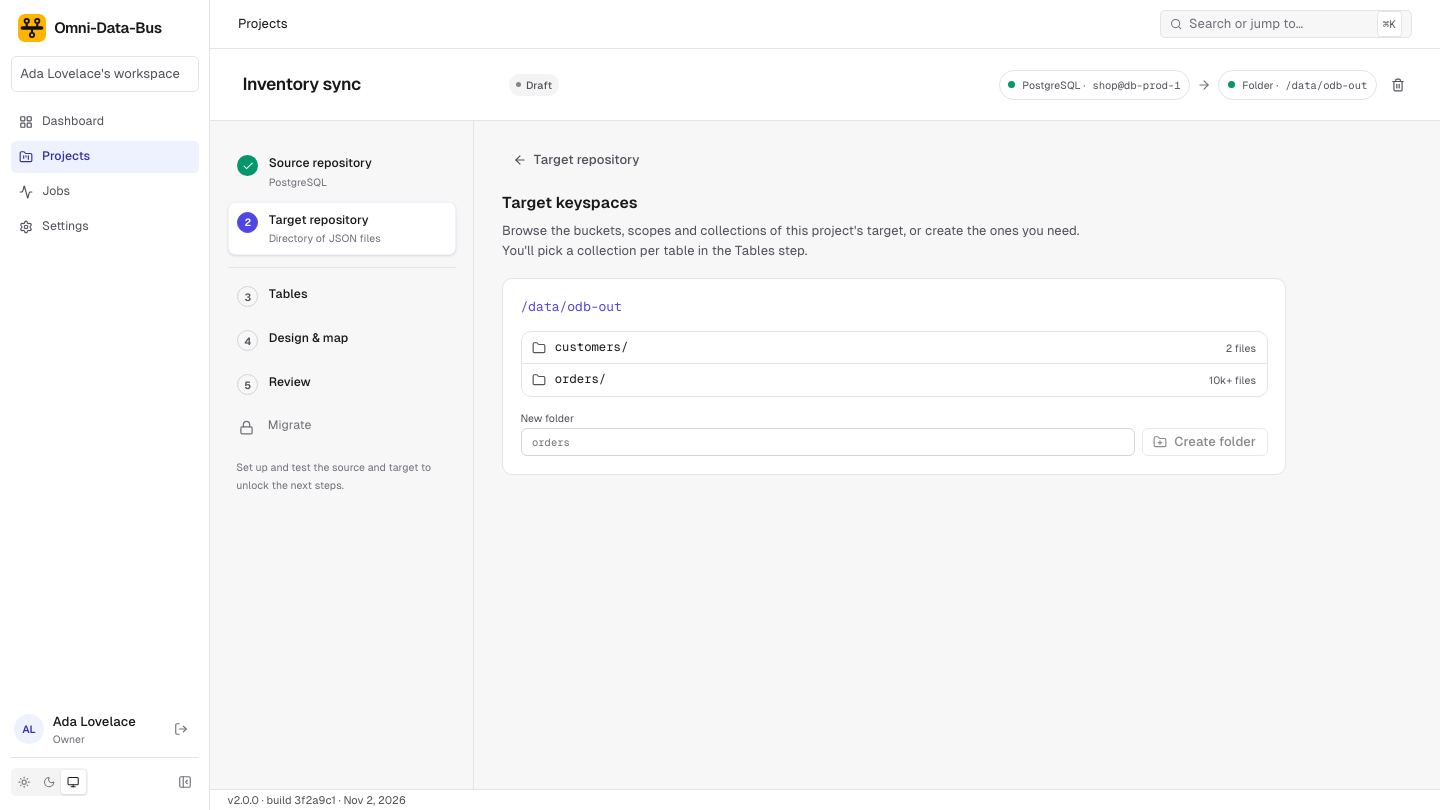
Test case: DirectoryBrowser › AC3: lists and creates folders
The width and height of the screenshot is (1440, 810).
Expected: the text "customers/" is shown, [555, 339, 628, 355]
Expected: the text "2 files" is shown, [1226, 340, 1256, 354]
// Open a folder, then go back to the root through the path.
Step 1. Click the text "orders/" → (581, 379), box [555, 371, 606, 387]
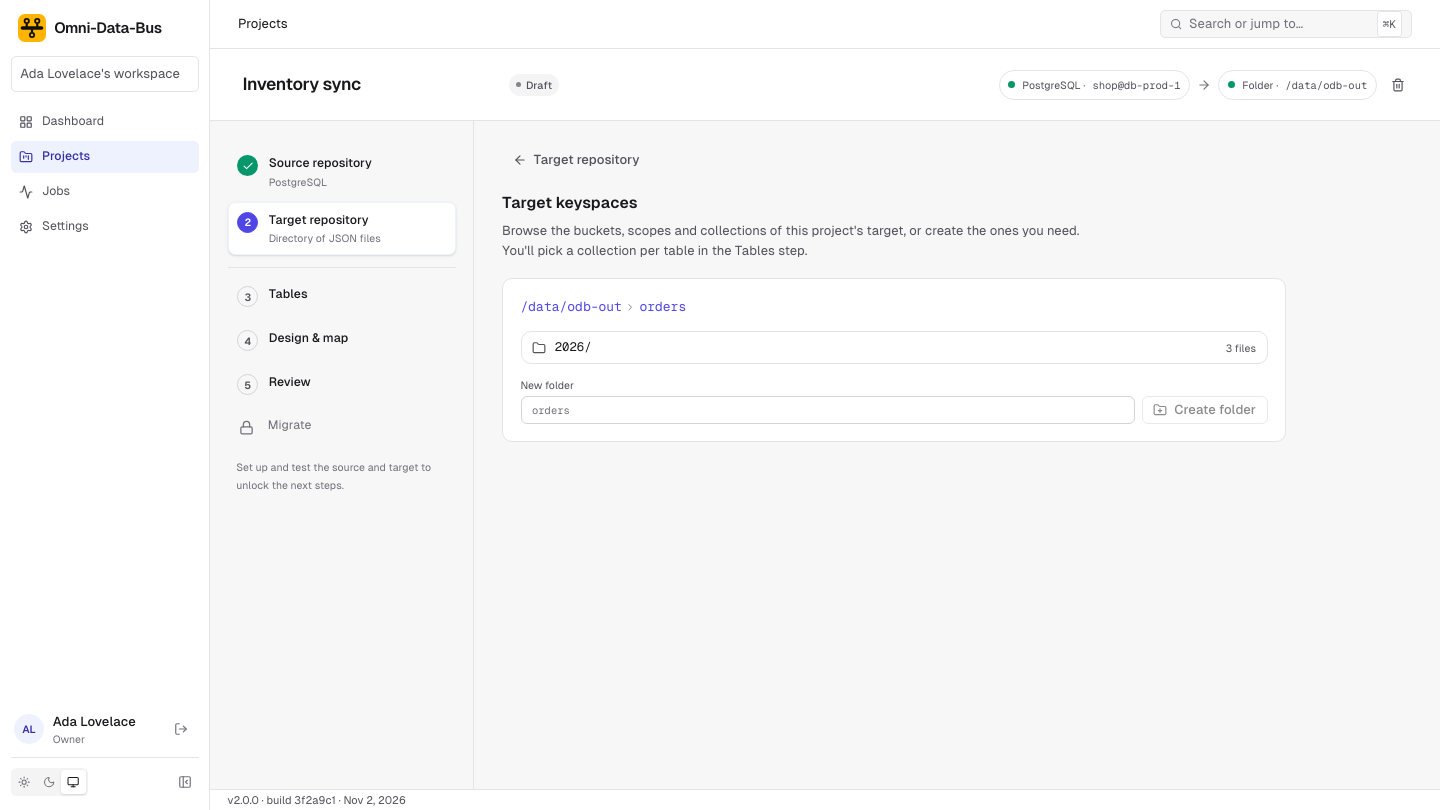
Expected: the text "2026/" is shown, [555, 339, 592, 355]
Step 2. Click the button "/data/odb-out" → (571, 307), box [520, 297, 622, 317]
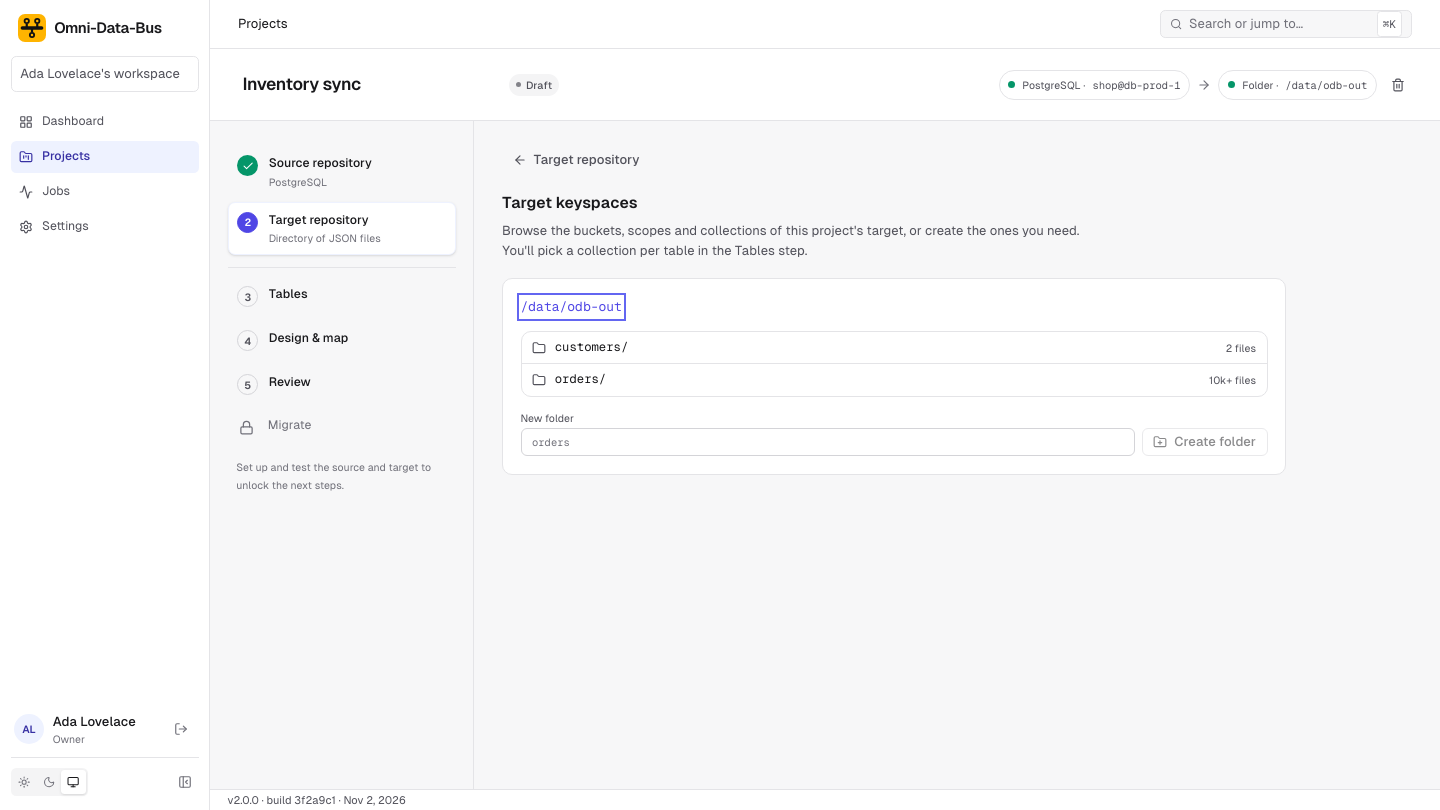
Expected: the text "customers/" is shown, [555, 339, 628, 355]
Step 3. Type "../etc" into the field labelled "New folder" → (828, 442), box [520, 428, 1135, 456]
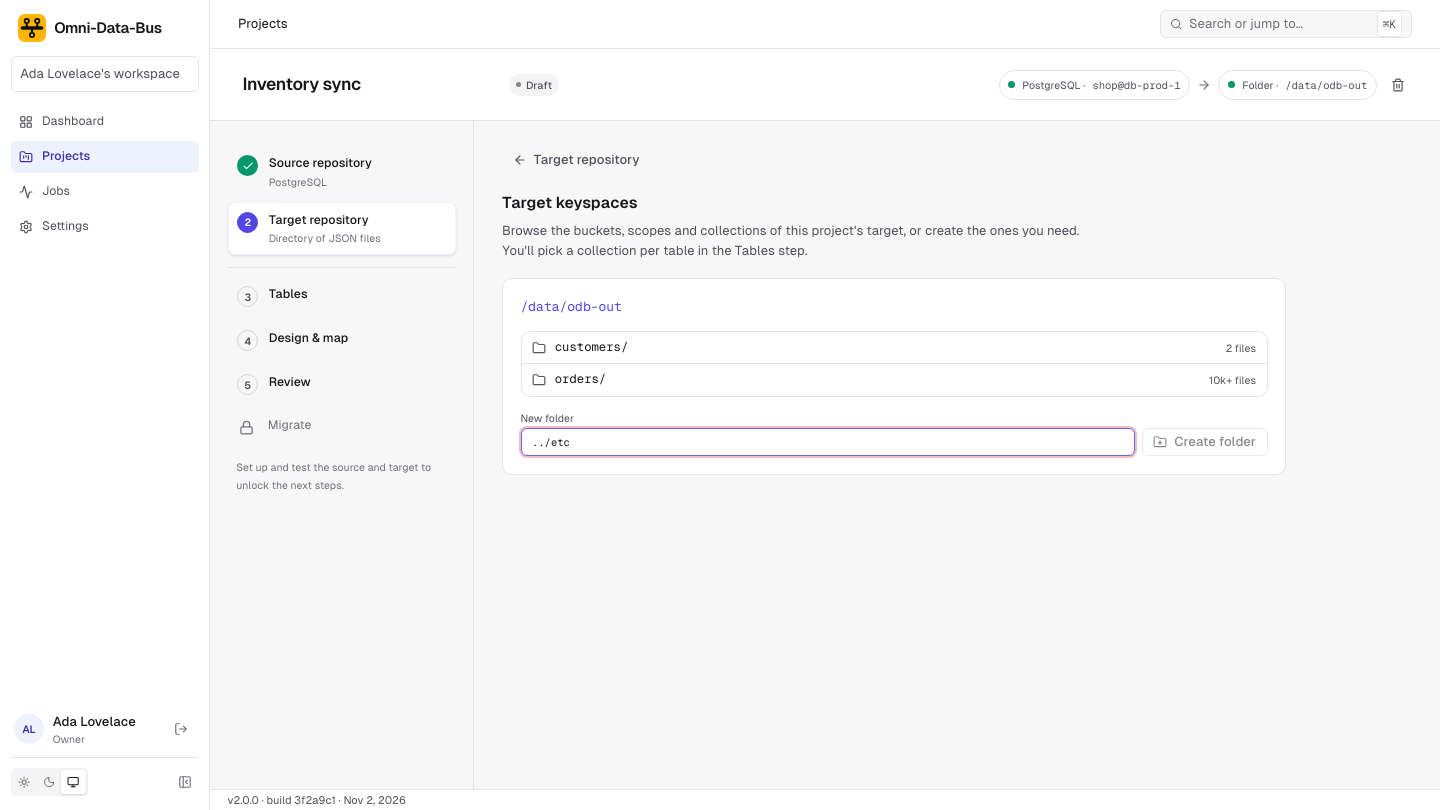
Expected: the button "Create folder" is disabled, [1142, 428, 1268, 456]
Step 4. Replace the text in the field labelled "New folder" with "archive" → (828, 442), box [520, 428, 1135, 456]
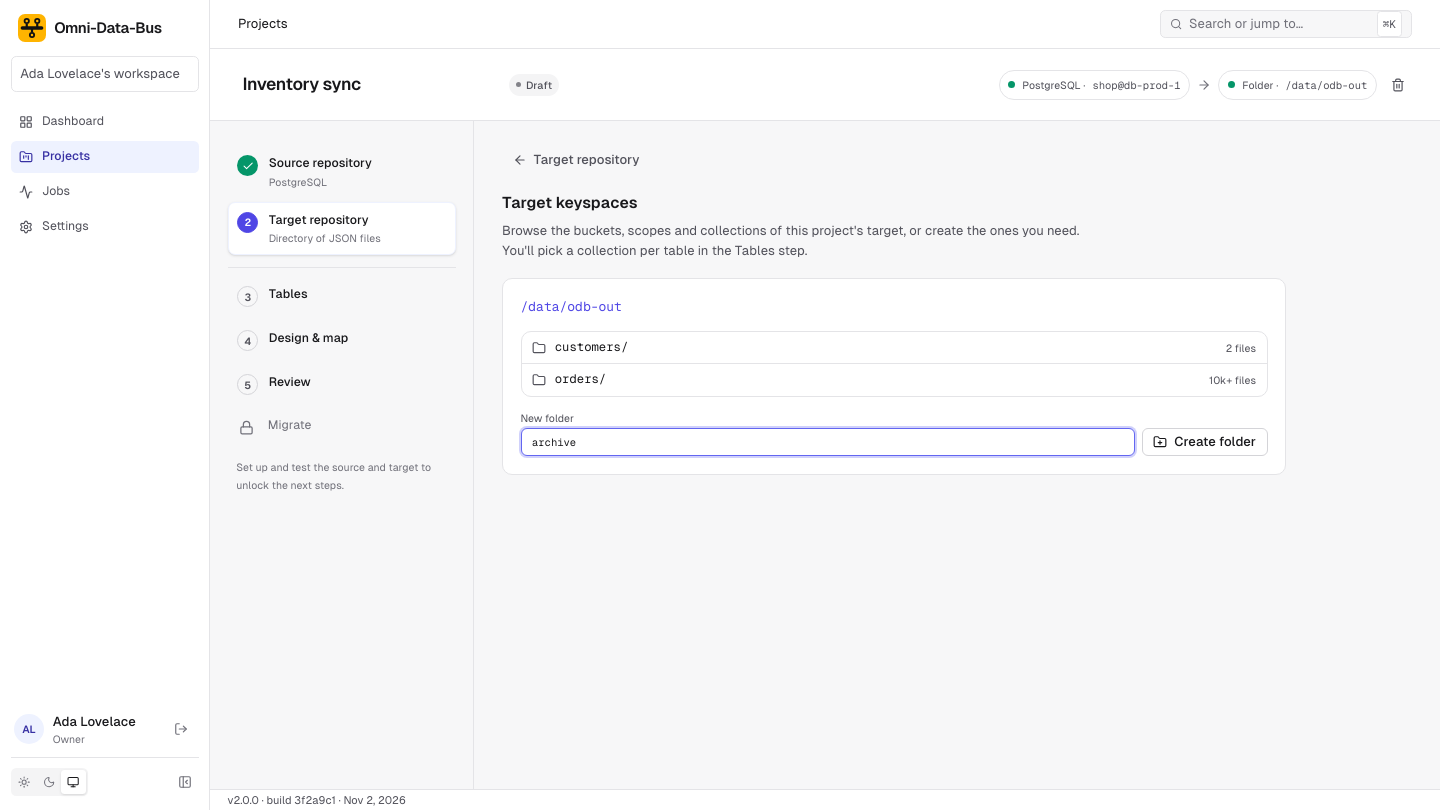
Step 5. Click the button "Create folder" → (1205, 442), box [1142, 428, 1268, 456]
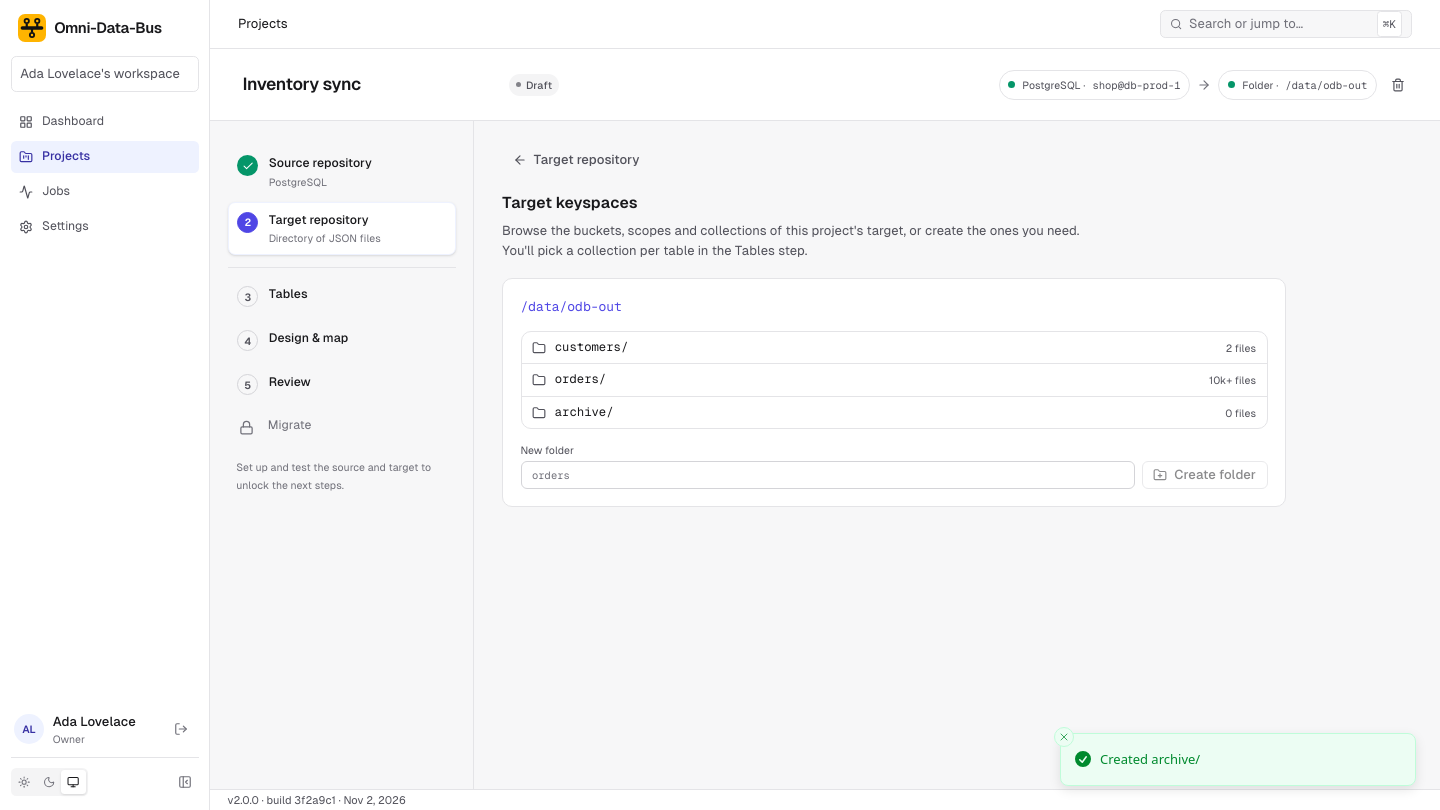
Expected: the text "archive/" is shown, [555, 404, 614, 420]
